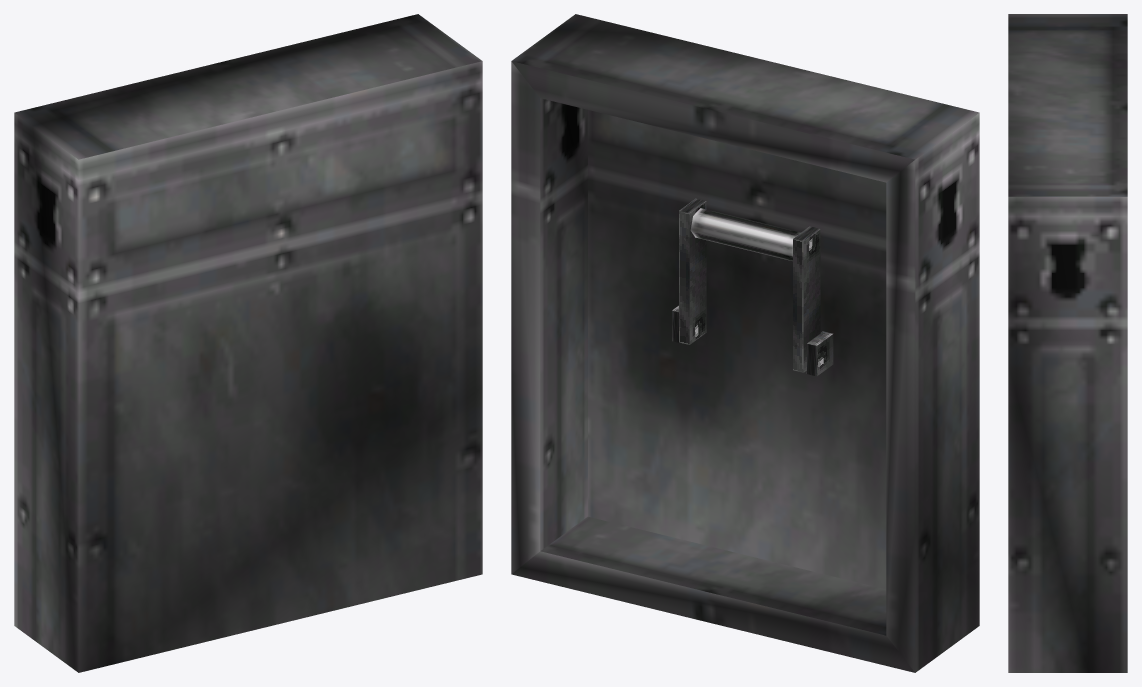
File: INST_SWORDLIGHT_LOCKBOX_BROKE+LEVER.obj
3 renders of one model, left to right at view 1: azimuth 30°, elevation 25°; view 2: azimuth 150°, elevation 25°; view 3: azimuth 270°, elevation 25°, orthographic. The views are drawn at different scales.
Visible parts, largest first — view 1: lockbox_Lod1_01; view 2: lockbox_Lod1_01, xSwitch_Lod1_01; view 3: lockbox_Lod1_01.
Boxes of the visible parts, x1,y1,x2,y2 form: lockbox_Lod1_01: [14, 14, 482, 672]; lockbox_Lod1_01: [511, 14, 979, 672]; xSwitch_Lod1_01: [679, 198, 820, 372]; lockbox_Lod1_01: [1008, 14, 1127, 672].
Size of the model in its own units: 70 by 85 by 19.31.
